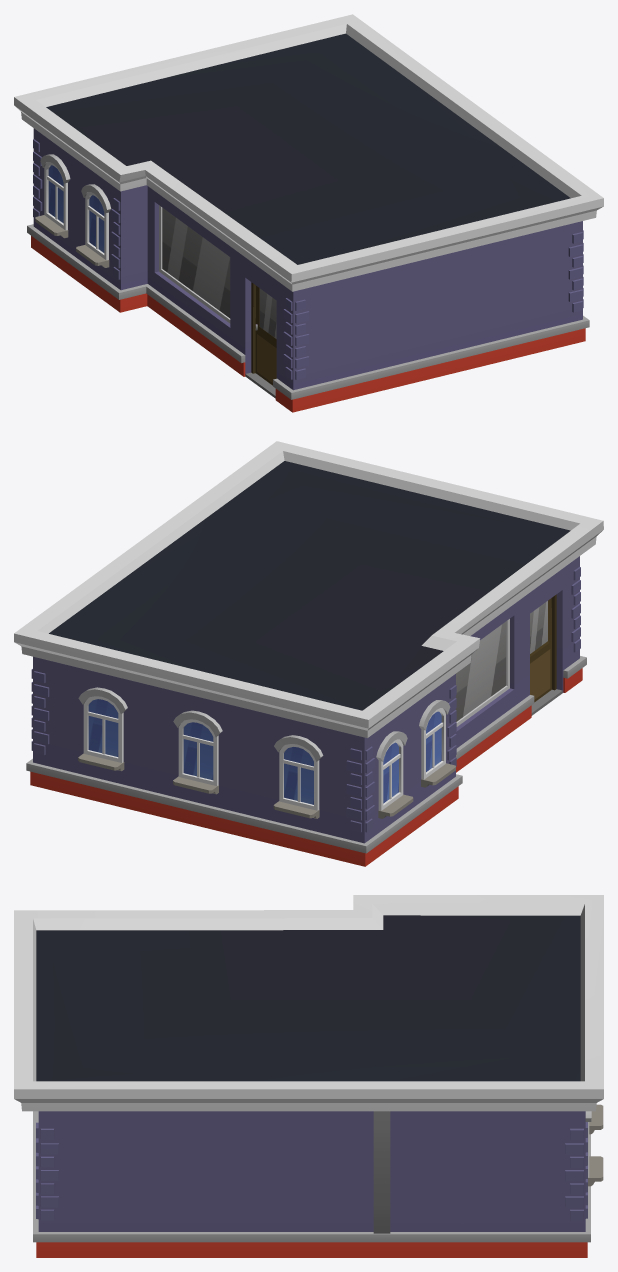
File: Building_1_1_K.fbx
3 renders of one model, top to bottom at view 1: azimuth 30°, elevation 25°; view 2: azimuth 150°, elevation 25°; view 3: azimuth 270°, elevation 25°, orthographic. The views are drawn at different scales.
Parts seen in each view (by area): view 1: Building_1_1_K; view 2: Building_1_1_K; view 3: Building_1_1_K.
Part boxes in pixels (<box>): Building_1_1_K: <box>14,14,603,412</box>; Building_1_1_K: <box>14,441,603,866</box>; Building_1_1_K: <box>14,895,603,1257</box>.
Bounding box in the file's own units: 822 × 341 × 1051.
